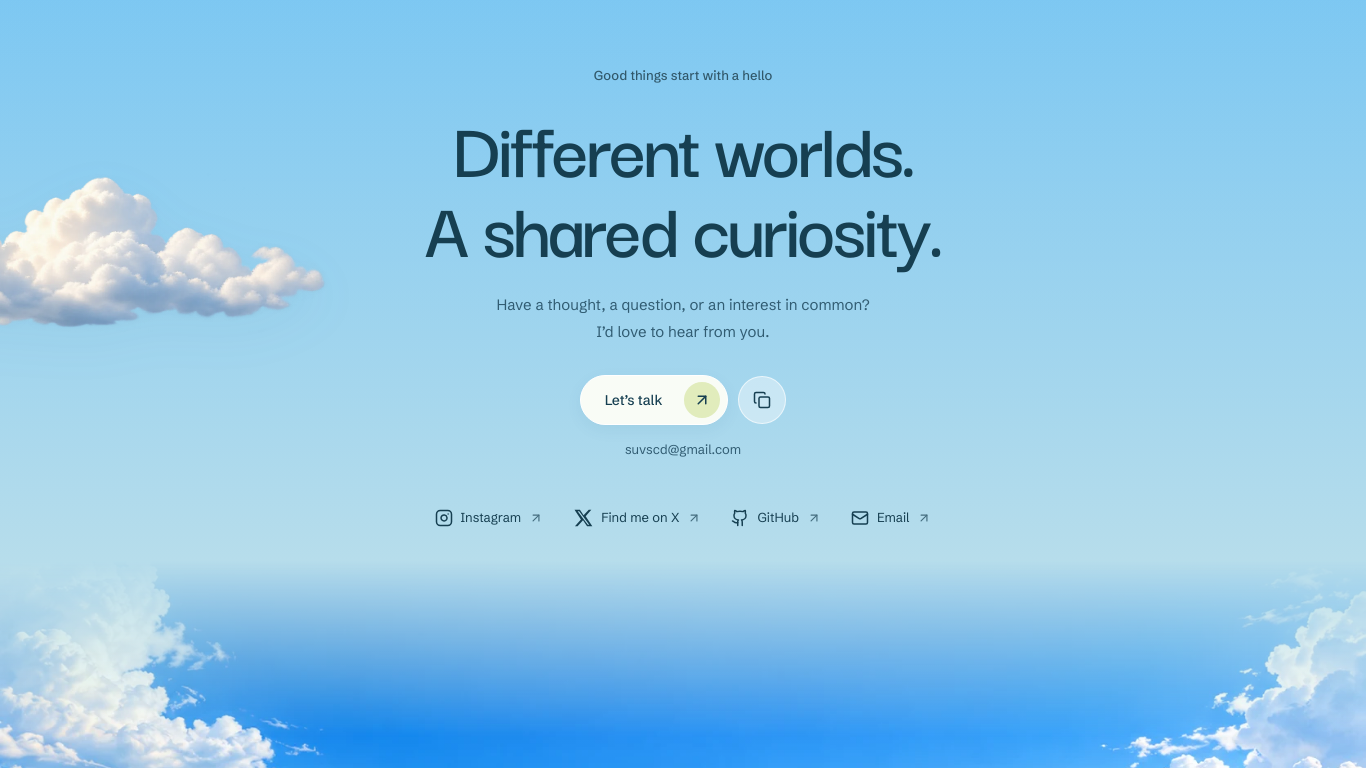
Test: copy email feedback › reports a rejected clipboard request without claiming success
(page scrolled)
Click the button named "Copy email address". click: (762, 400)
box: [738, 376, 786, 424]
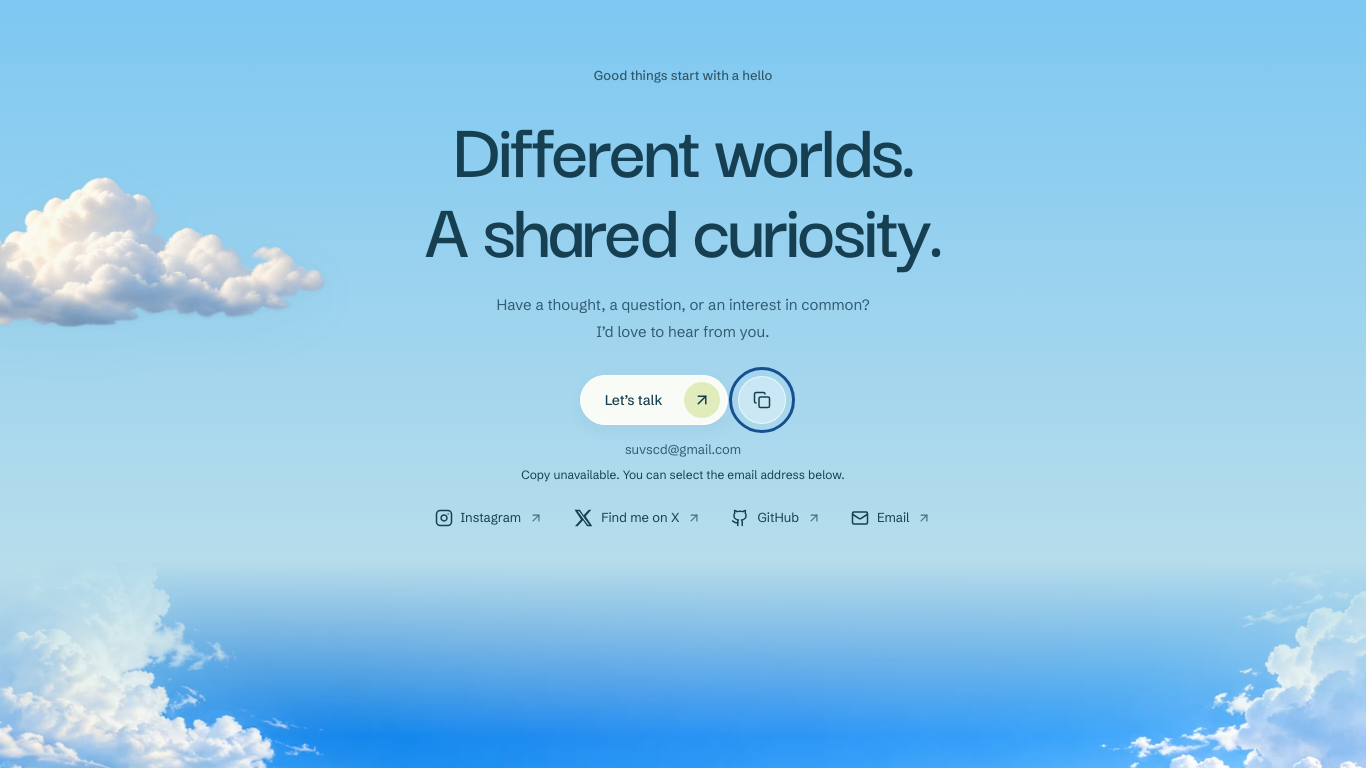
Expected: the text "suvscd@gmail.com" is shown, [625, 441, 741, 457]
Expected: the message shows "unavailable", [521, 467, 845, 482]
